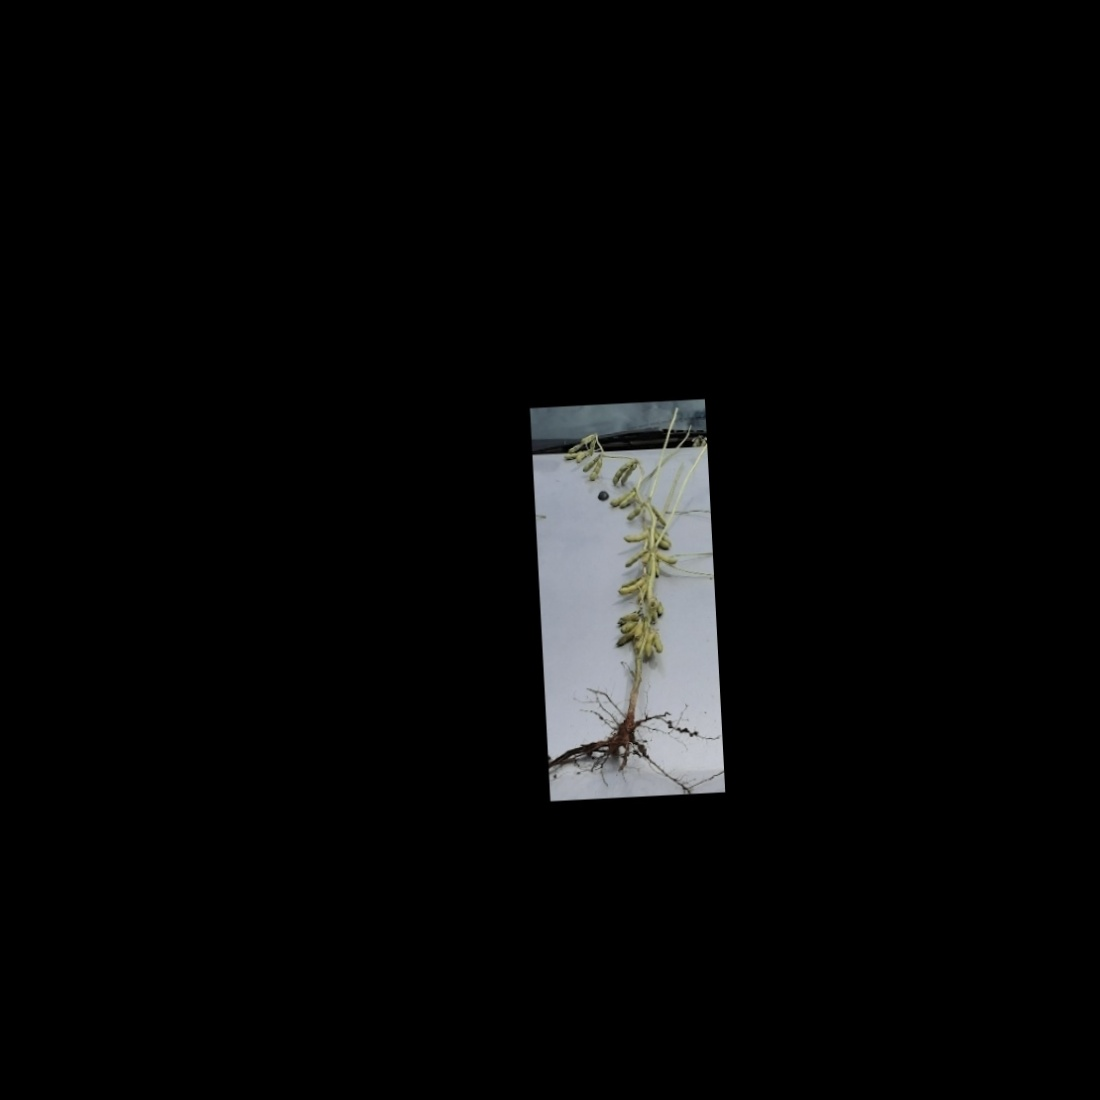pod: (618, 545, 652, 572), (615, 577, 651, 599), (608, 461, 637, 487), (617, 460, 638, 491), (618, 529, 654, 546), (580, 452, 602, 475), (587, 456, 603, 485), (653, 552, 682, 567), (564, 439, 588, 456), (651, 631, 667, 656), (577, 432, 595, 446)
soy: (550, 414, 708, 765)
